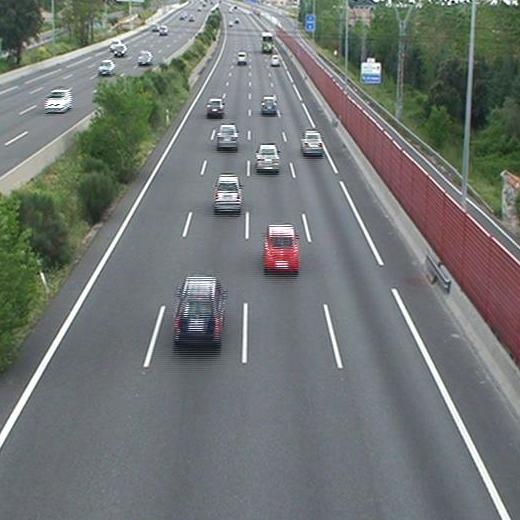bus: (262, 32, 273, 51)
car: (174, 278, 223, 342), (264, 227, 299, 270), (214, 175, 241, 210), (255, 146, 280, 171), (300, 131, 323, 154), (217, 126, 239, 148), (261, 97, 276, 114), (207, 100, 224, 115), (237, 52, 247, 63), (271, 55, 279, 66)
